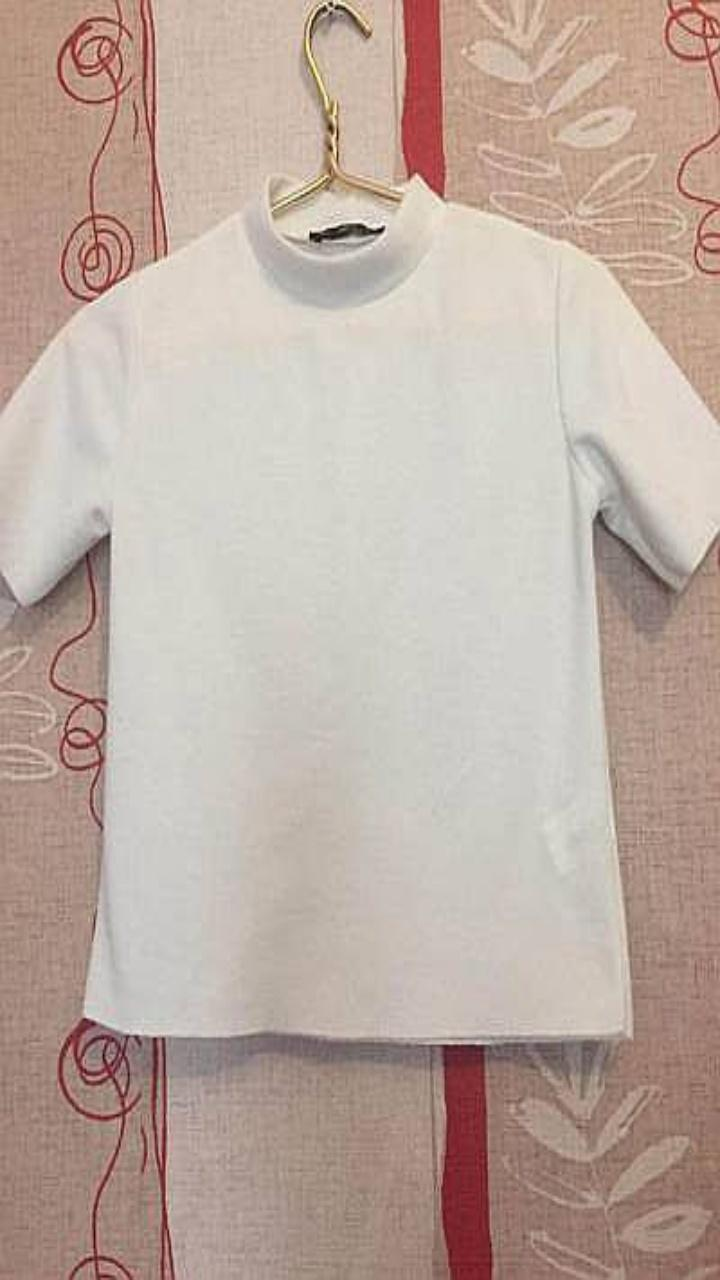T-Shirt: (0, 173, 719, 1042)
